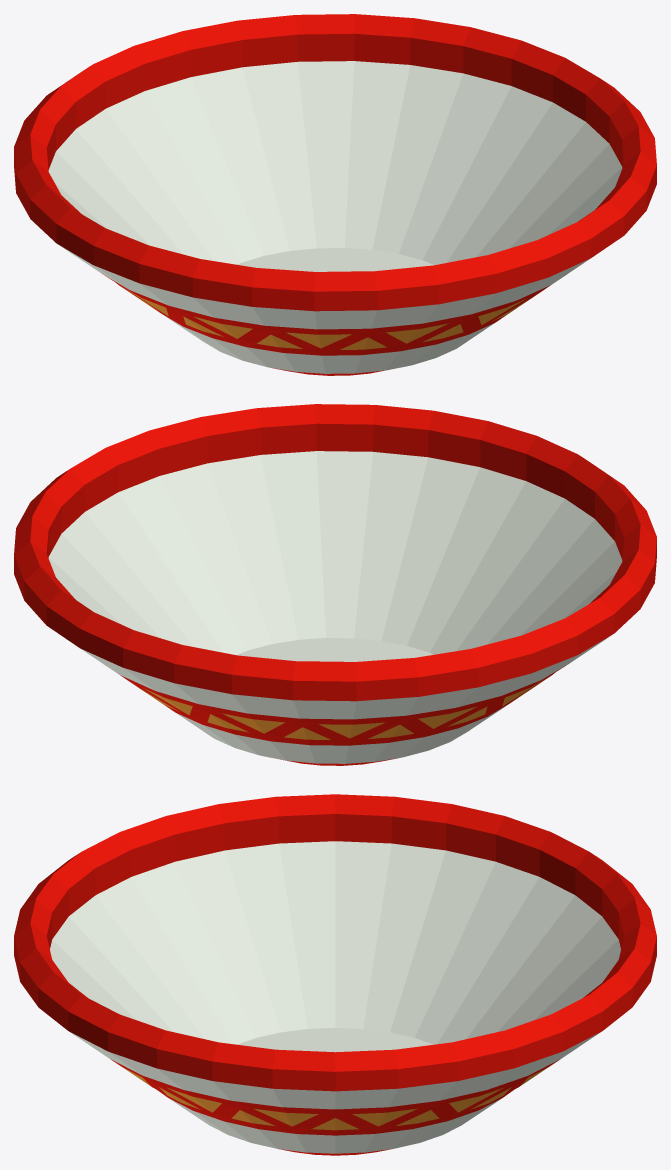
File: cacerola.fbx
3 views of the same model, one above another, from view 1: azimuth 30°, elevation 25°; view 2: azimuth 150°, elevation 25°; view 3: azimuth 270°, elevation 25° (orthographic).
Visible parts, largest first — view 1: Circle; view 2: Circle; view 3: Circle.
Boxes of the visible parts, x1,y1,x2,y2 form: Circle: (14, 14, 656, 375); Circle: (14, 404, 656, 765); Circle: (14, 794, 656, 1155).
Bounding box in the file's own units: 610 × 197 × 610.
